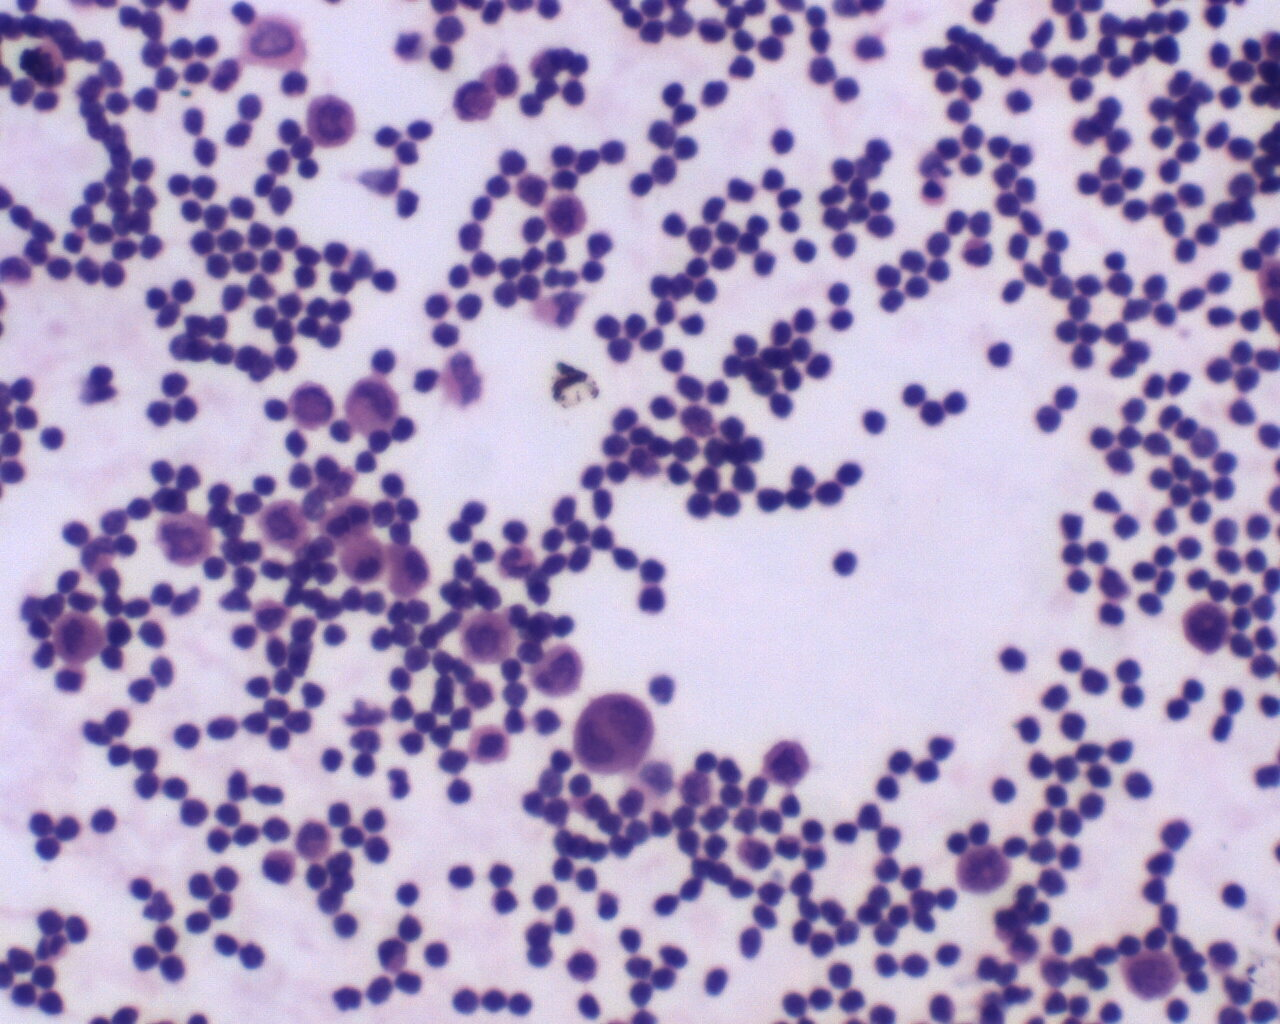ab: (571, 691, 657, 779), (297, 84, 362, 153), (153, 507, 217, 572), (1123, 945, 1184, 1006), (459, 606, 519, 667), (529, 639, 587, 701), (953, 843, 1017, 897), (284, 376, 339, 435), (259, 495, 316, 551), (1180, 597, 1233, 654), (50, 611, 104, 662), (764, 738, 815, 787), (545, 191, 591, 241)
lymph: (363, 342, 401, 381), (696, 77, 735, 113), (329, 911, 369, 946), (802, 347, 838, 383), (1219, 876, 1251, 916), (155, 949, 188, 986), (788, 234, 822, 270), (169, 715, 203, 751), (827, 546, 862, 580), (820, 274, 854, 307), (447, 859, 480, 893), (998, 643, 1032, 675), (981, 338, 1017, 369), (1121, 765, 1154, 798), (428, 42, 460, 75), (872, 772, 904, 806), (1005, 85, 1037, 118), (933, 940, 970, 969), (767, 126, 798, 159), (87, 805, 119, 836), (1116, 683, 1149, 714), (99, 258, 129, 293), (33, 835, 66, 865), (1054, 645, 1087, 675), (213, 863, 245, 893), (508, 987, 538, 1019), (1053, 380, 1083, 413), (443, 779, 478, 807), (369, 263, 399, 294), (423, 937, 451, 970), (319, 744, 347, 776), (625, 171, 658, 199), (129, 153, 158, 183), (38, 424, 67, 455), (861, 405, 888, 438), (447, 261, 475, 290), (213, 799, 243, 827), (320, 621, 348, 648), (1103, 247, 1133, 272)
meso: (383, 544, 432, 599), (340, 535, 387, 583), (467, 721, 513, 766)
neutro: (959, 236, 993, 267)
